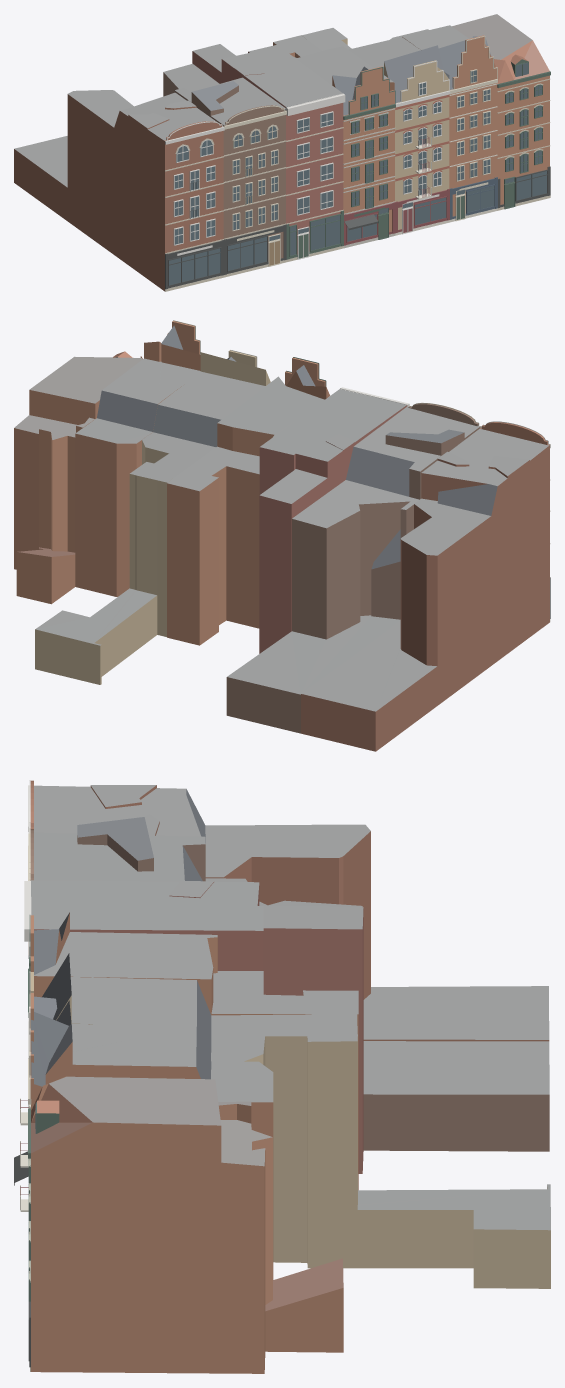
Rendered from chunk-bilder-081118-x7.glb.
3 views of the same model, one above another, from view 1: azimuth 30°, elevation 25°; view 2: azimuth 150°, elevation 25°; view 3: azimuth 270°, elevation 25° (orthographic). The views are drawn at different scales.
Parts seen in each view (by area): view 1: bilder-081118-x7; view 2: bilder-081118-x7; view 3: bilder-081118-x7.
Part boxes in pixels (box(x1,y1,x2,y2)): bilder-081118-x7: box(14, 14, 550, 291); bilder-081118-x7: box(14, 320, 550, 751); bilder-081118-x7: box(14, 780, 550, 1373).
Size of the model in its own units: 45.35 by 19.84 by 31.29.
